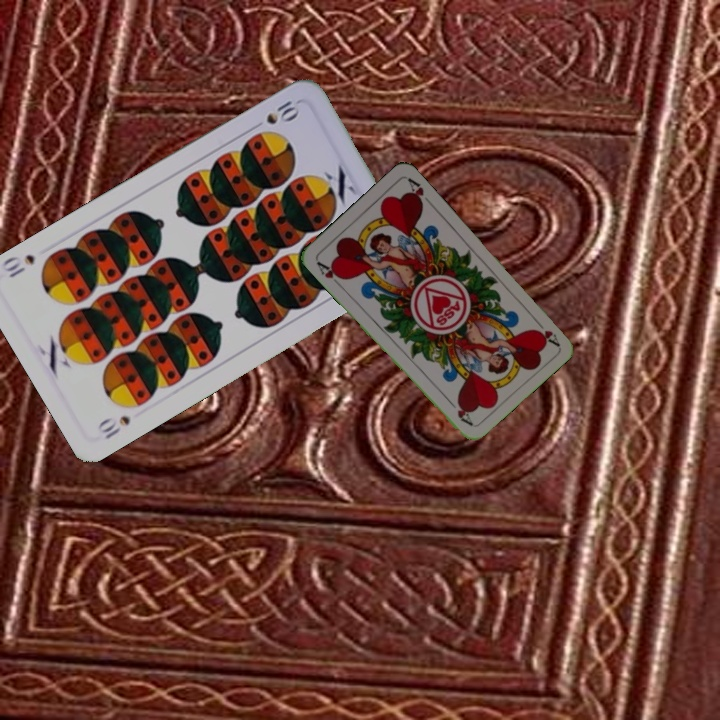HA: (312, 257, 347, 290), (529, 314, 561, 348)
S10: (247, 94, 302, 133), (93, 411, 133, 442)
